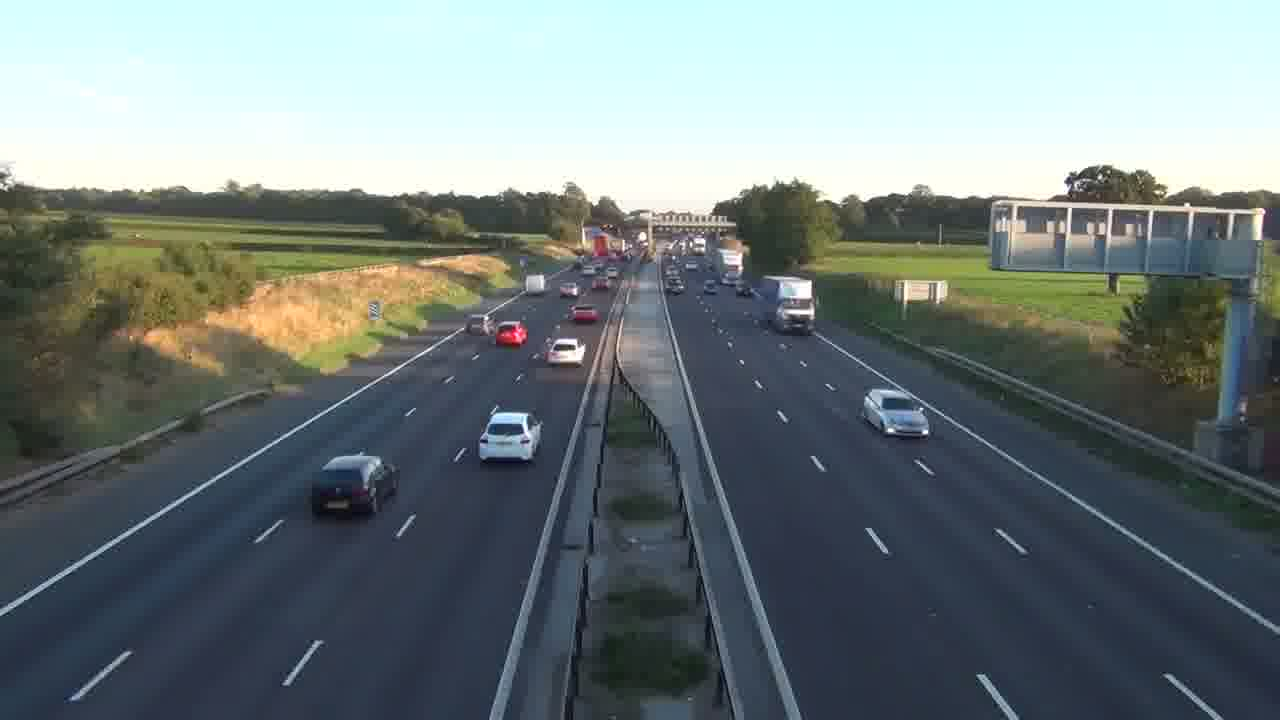car: (310, 453, 399, 517), (861, 388, 931, 438), (478, 411, 544, 463), (545, 337, 585, 367), (494, 320, 528, 348), (570, 305, 600, 324), (559, 281, 580, 298)
